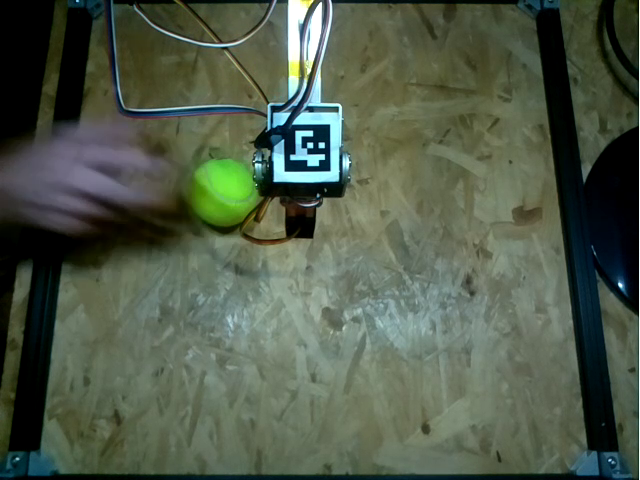tennis_ball: (187, 157, 260, 229)
